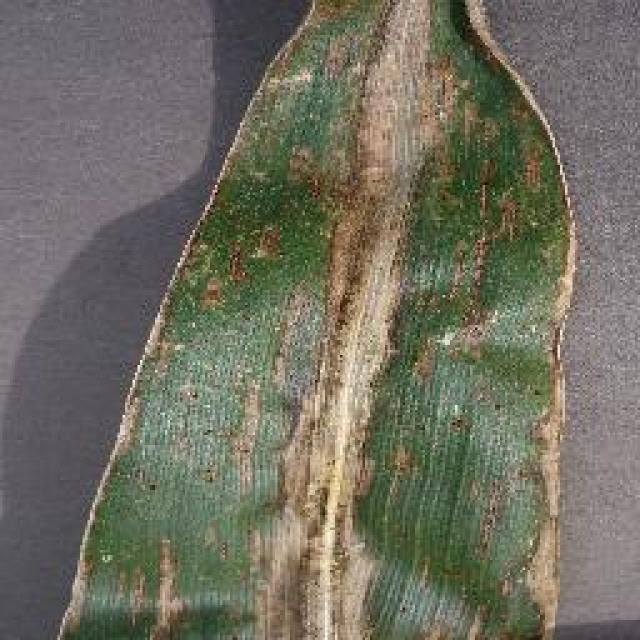Corn___Cercospora_leaf_spot Gray_leaf_spot: (242, 0, 509, 640)
